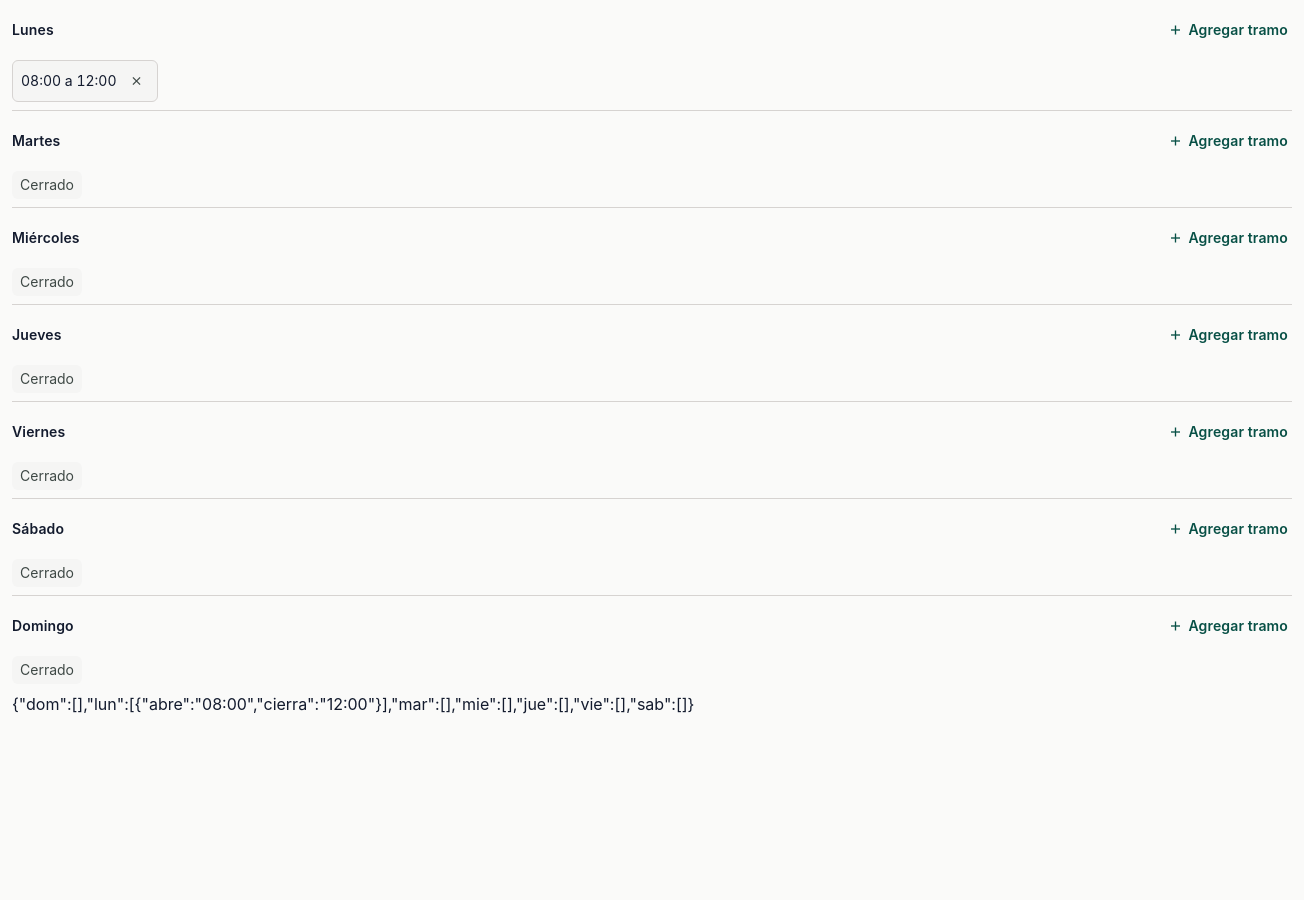
Test: no agrega un tramo que cierra antes de abrir y dice por qué
Click the button with aria-label "Agregar tramo el martes": (1227, 141) [1162,119,1292,163]
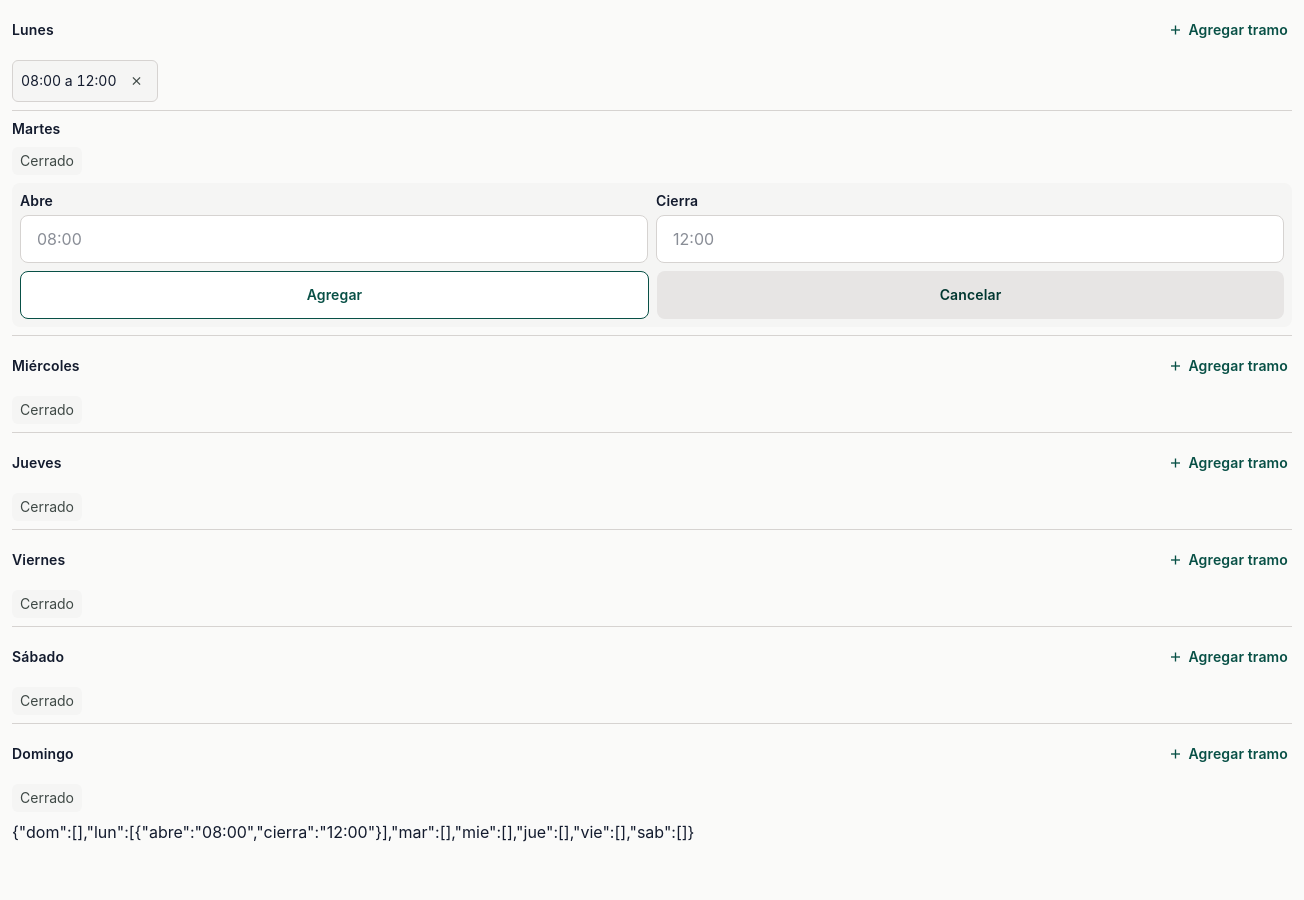
In the field labelled "Abre": (334, 239) [20,215,648,263], type "14:00"
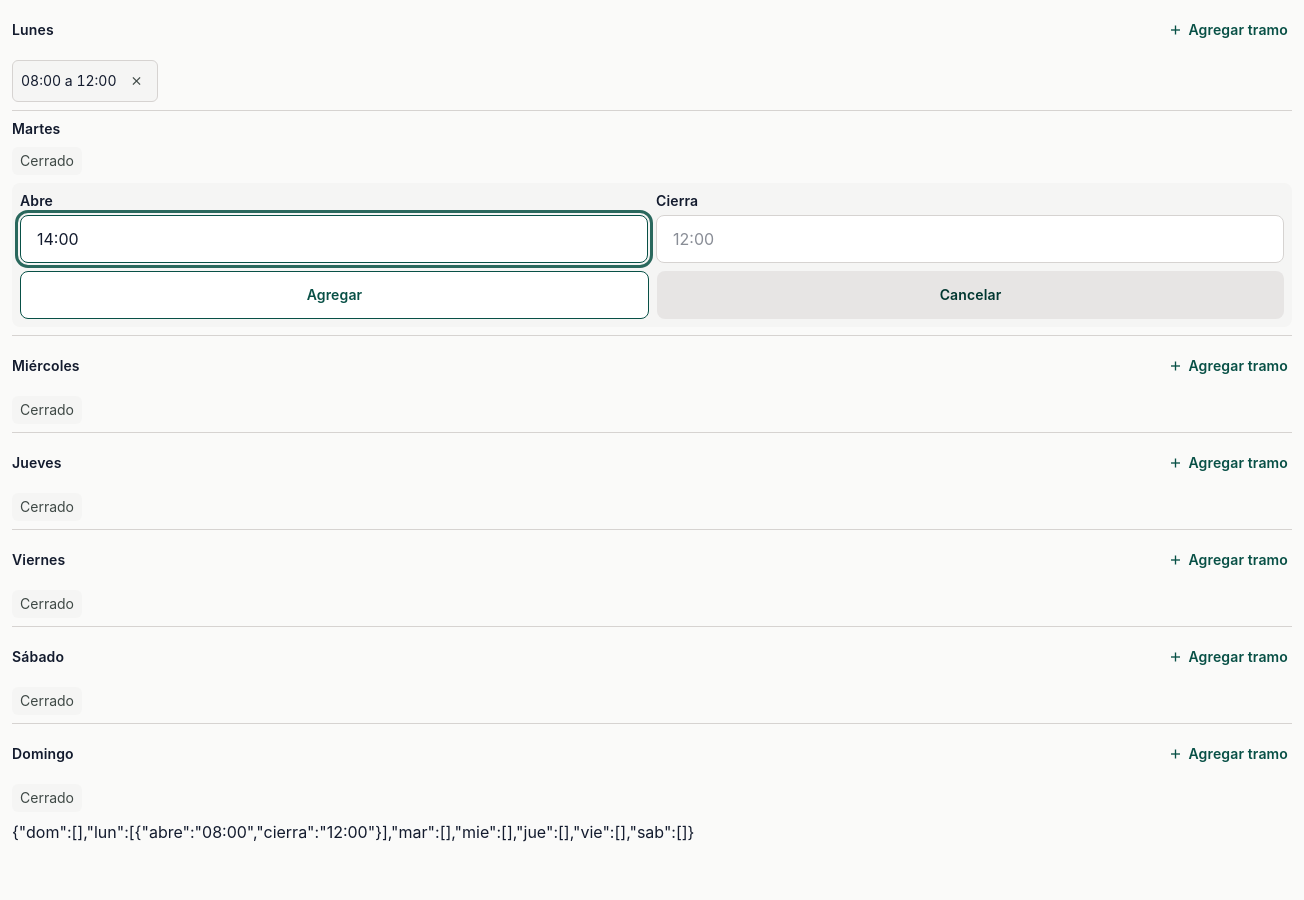
In the field labelled "Cierra": (970, 239) [656,215,1284,263], type "10:00"
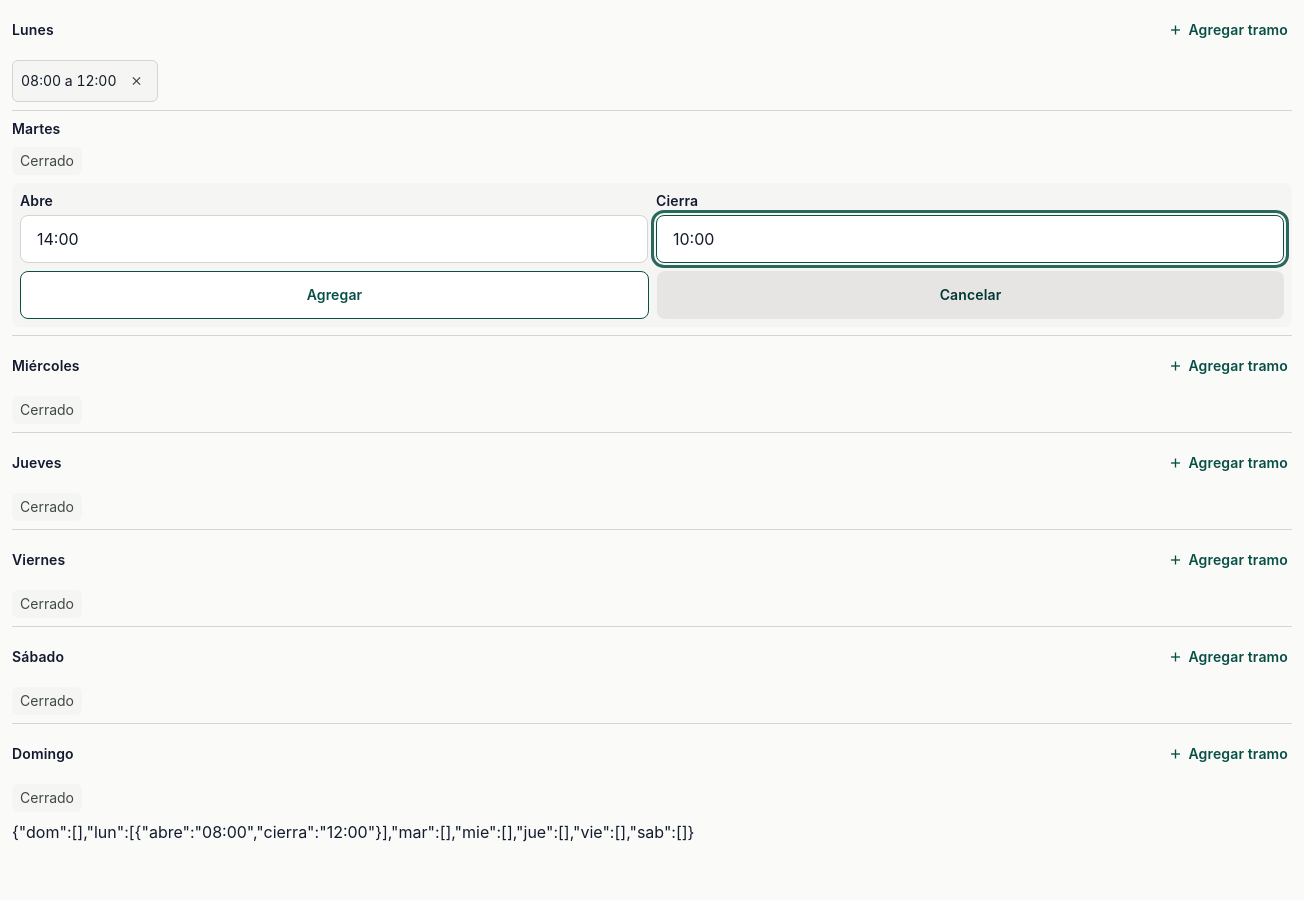
Click the button "Agregar": (334, 295) [20,271,649,319]
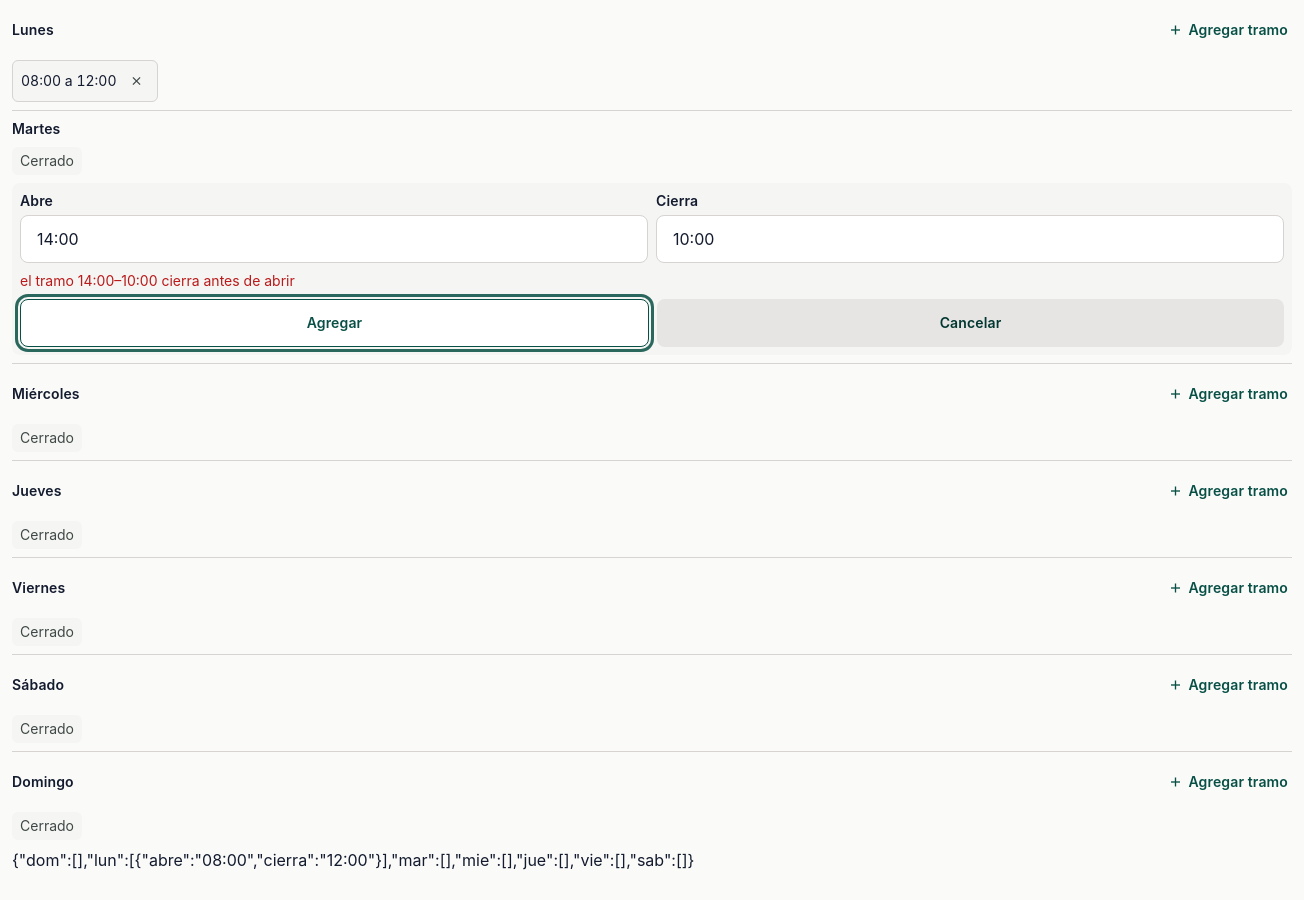
Result: the message shows "cierra antes de abrir" at [20,272,295,289]
